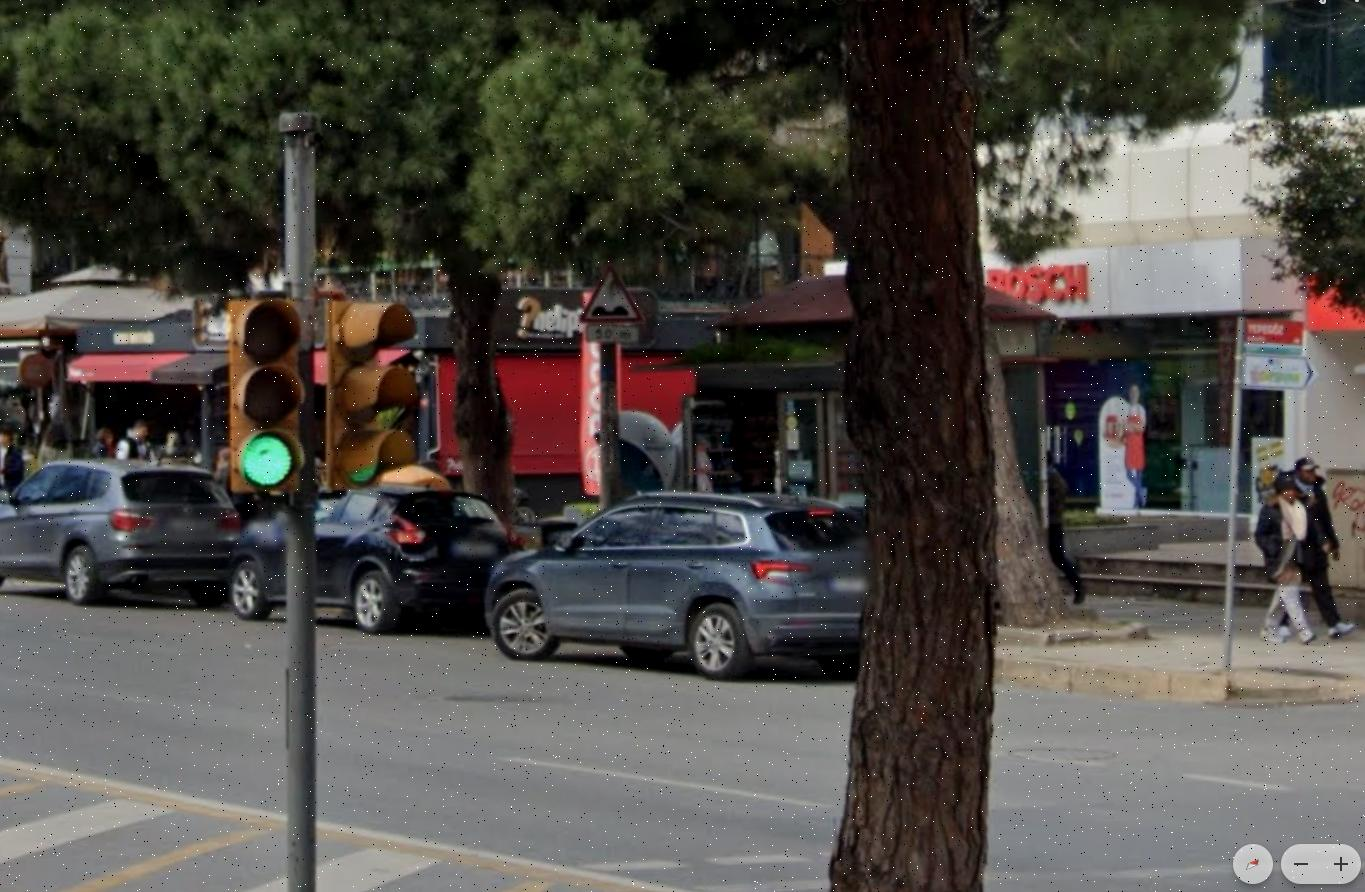greenlight: (329, 299, 417, 495), (229, 302, 299, 499)
